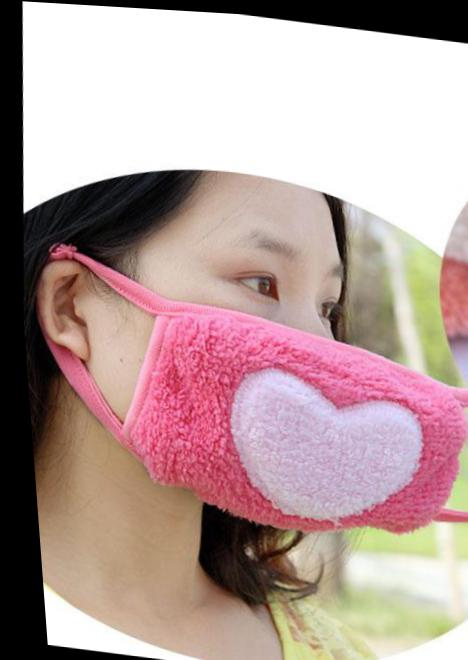WRONG: (91, 206, 415, 526)
